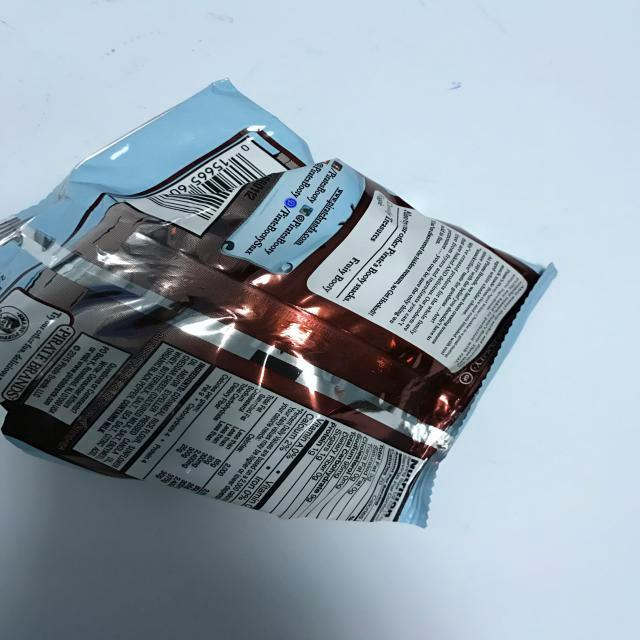plastic: (0, 54, 625, 600)
